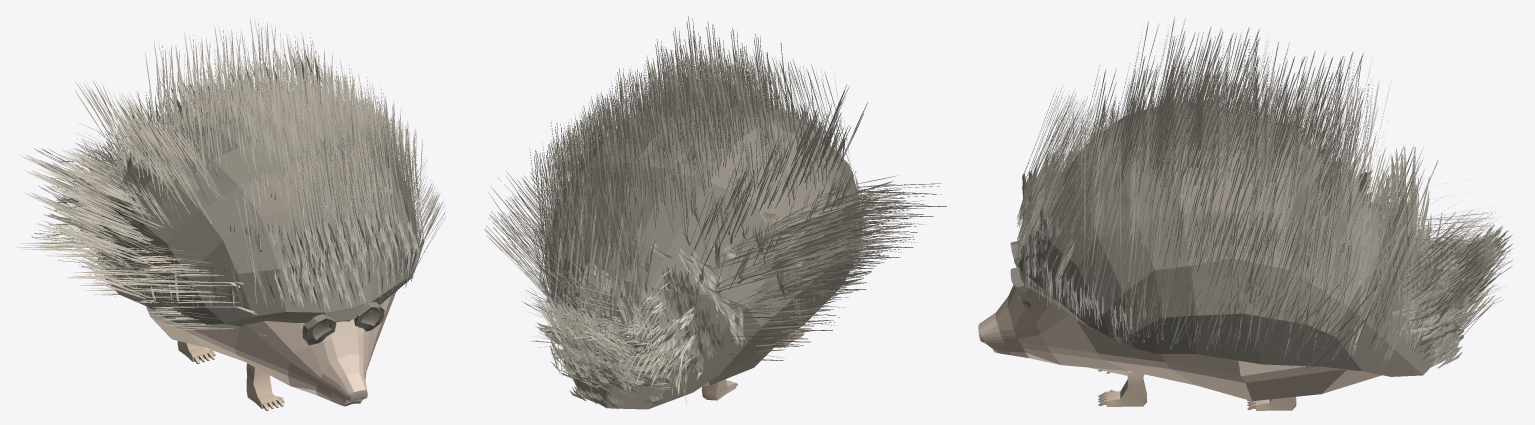
File: ms_harinezumi.fbx
3 renders of one model, left to right at view 1: azimuth 30°, elevation 25°; view 2: azimuth 150°, elevation 25°; view 3: azimuth 270°, elevation 25°, orthographic. The views are drawn at different scales.
Visible parts, largest first — view 1: polySurface379, A, B, M, B2, B1; view 2: polySurface379, A, B, B1; view 3: polySurface379, A, B, B2, B1, M.
Boxes of the visible parts, x1,y1,x2,y2 form: polySurface379: (17,17,445,335); A: (94,105,415,327); B: (146,291,396,406); M: (302,302,384,345); B2: (246,363,284,410); B1: (177,341,215,363); polySurface379: (484,16,946,408); A: (545,99,861,409); B: (702,338,782,386); B1: (701,379,737,400); polySurface379: (1015,17,1513,370); A: (1017,103,1435,376); B: (978,284,1381,401); B2: (1098,370,1146,406); B1: (1247,396,1296,410); M: (1010,241,1031,307).
Size of the model in its own units: 18.98 by 15.14 by 22.58.
